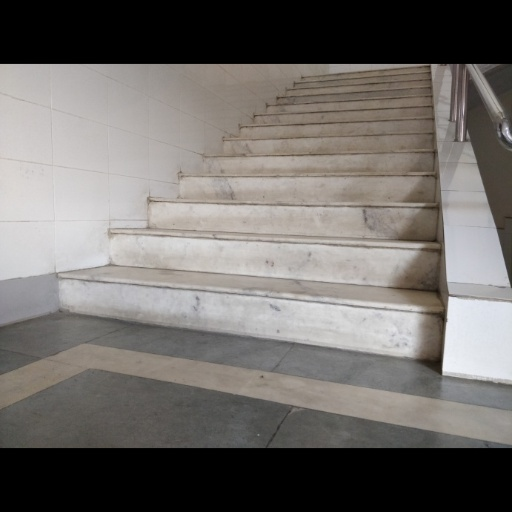Stairs: (60, 66, 444, 359)
